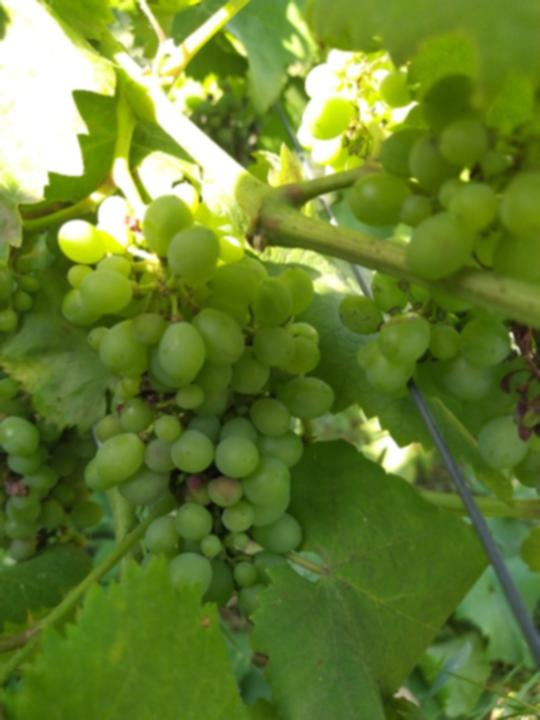grape: (56, 178, 339, 624)
